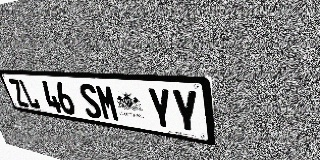4: (39, 80, 63, 113)
6: (52, 81, 77, 115)
L: (18, 79, 41, 110)
M: (94, 84, 121, 122)
S: (77, 83, 103, 119)
Y: (171, 89, 201, 135), (146, 87, 175, 131)
Z: (8, 78, 30, 108)
